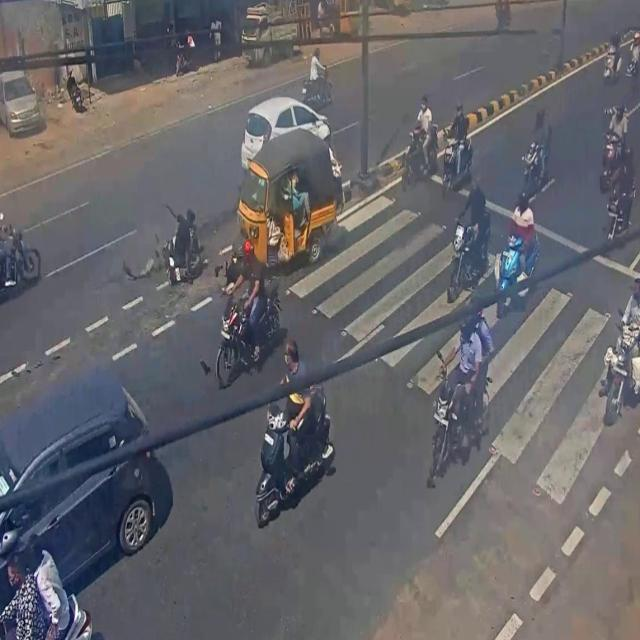accident: (139, 103, 347, 287)
non_accident: (0, 267, 173, 640)
